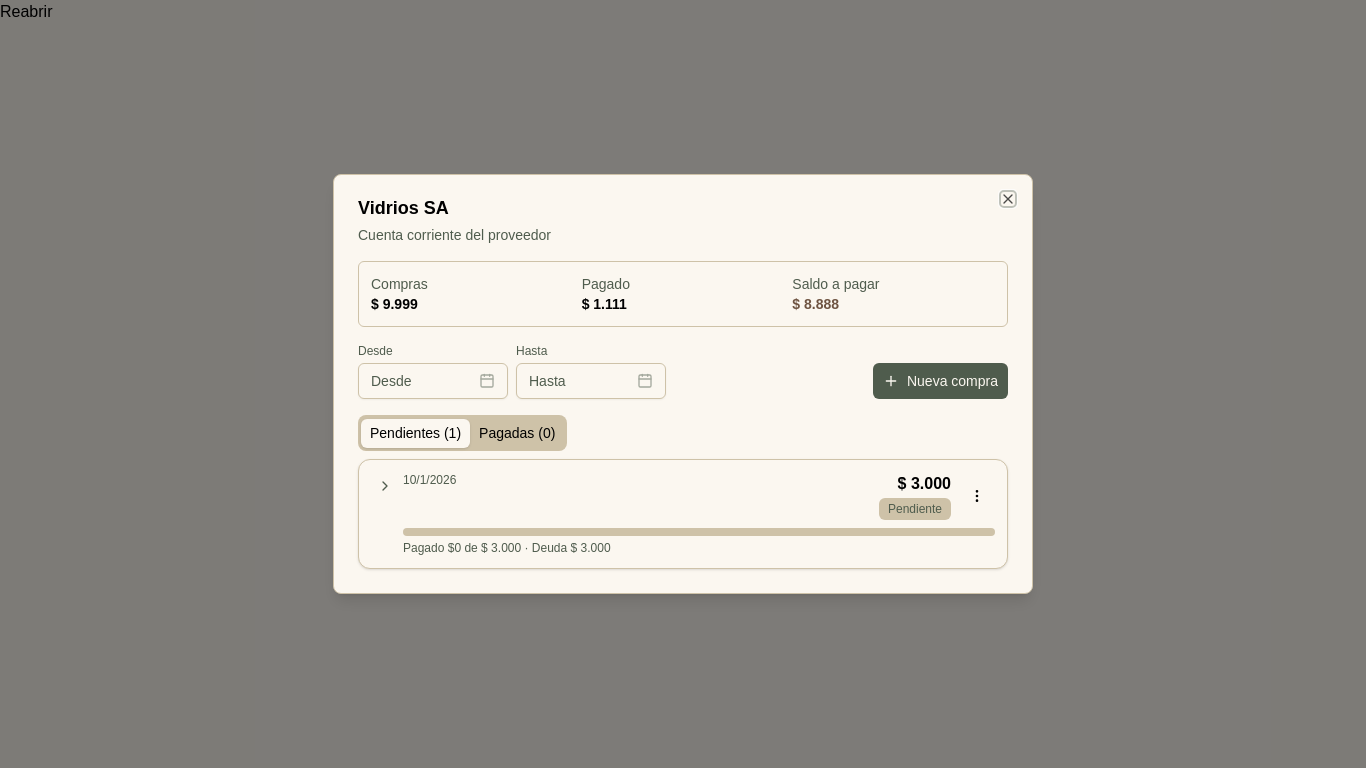
Test: SupplierDetailsDialog › lazy payment loading on expand › renders a payment gallery backed by the batched payment file list
Click the button named "Mostrar detalle de la compra": click(385, 486) top-left (371, 472), bottom-right (399, 500)
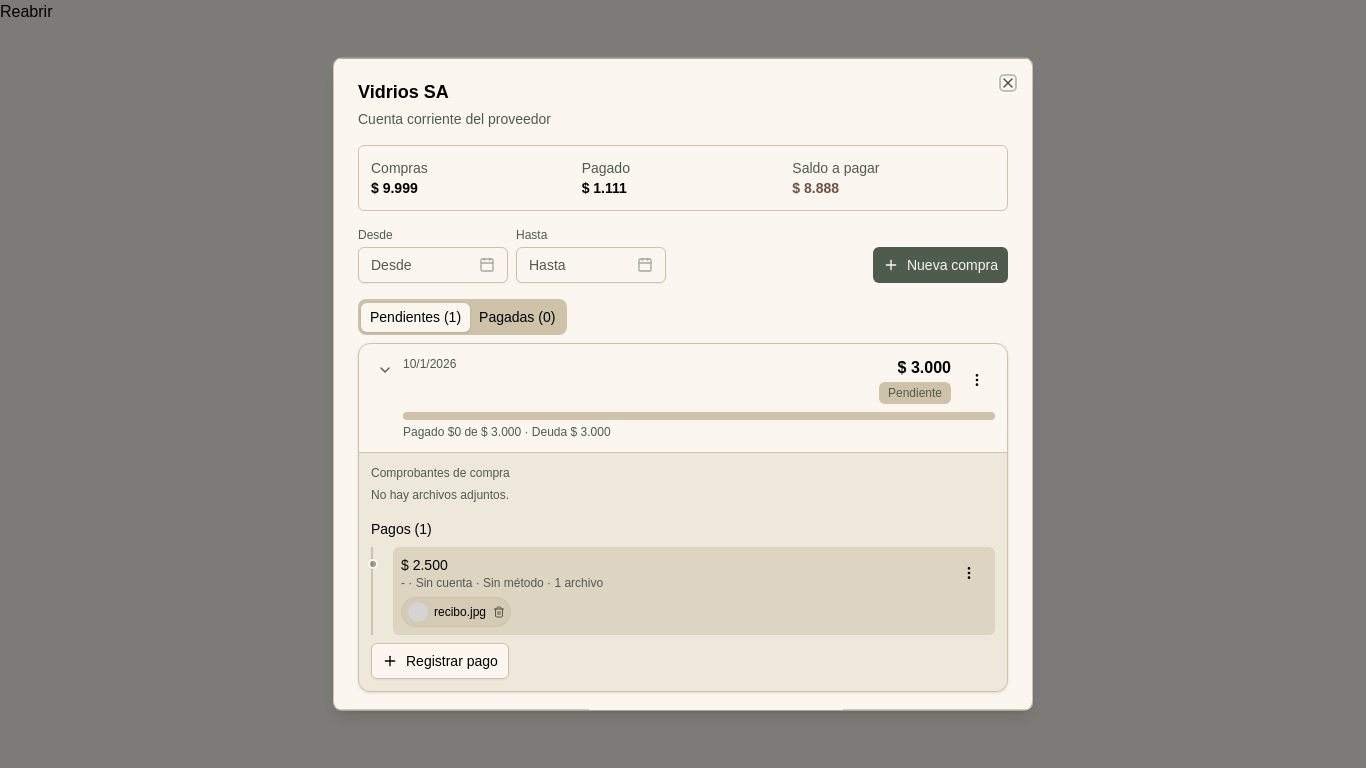
Check: the text "recibo.jpg" is shown, box top-left (434, 604), bottom-right (486, 620)
